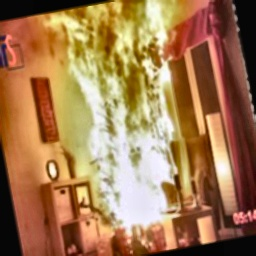fire: (22, 0, 214, 248)
